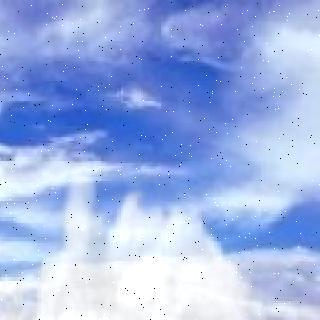smoke: (27, 218, 300, 320)
